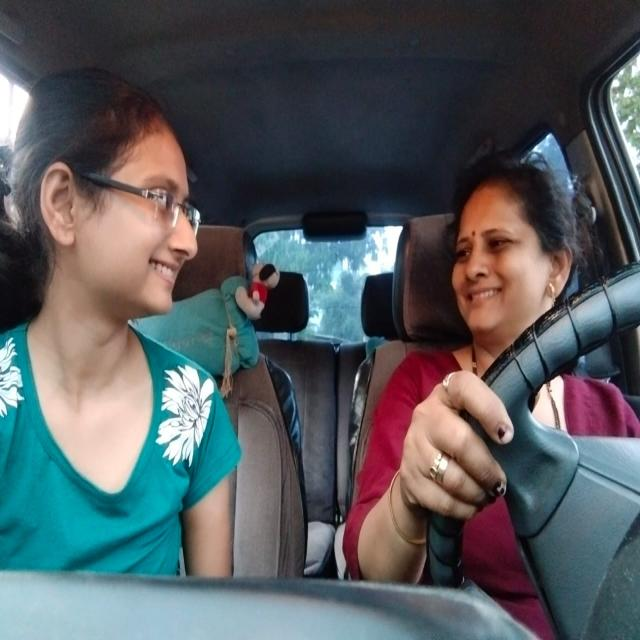LeftRight: (78, 84, 202, 318), (443, 186, 562, 326)
talking: (144, 248, 186, 286), (460, 287, 505, 307)
